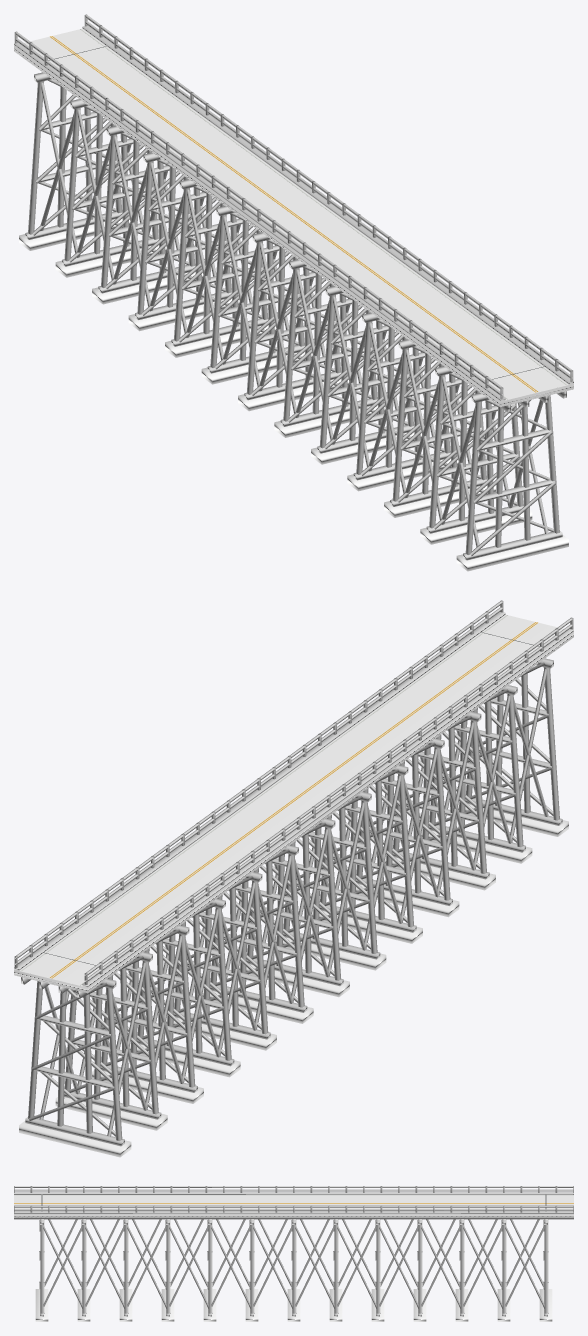
The model's file is bridge-lod1.fbx.
3 renders of one model, top to bottom at view 1: azimuth 30°, elevation 25°; view 2: azimuth 150°, elevation 25°; view 3: azimuth 270°, elevation 25°, orthographic. The views are drawn at different scales.
Parts seen in each view (by area): view 1: BridgeStructure_LOD1.001, BridgeDeck_LOD1.001, BridgeSupports_LOD1.001, BridgeParapets_LOD1.001, BridgeRoadPaint_LOD1.001; view 2: BridgeStructure_LOD1.001, BridgeDeck_LOD1.001, BridgeSupports_LOD1.001, BridgeParapets_LOD1.001, BridgeRoadPaint_LOD1.001; view 3: BridgeStructure_LOD1.001, BridgeDeck_LOD1.001, BridgeParapets_LOD1.001, BridgeSupports_LOD1.001, BridgeRoadPaint_LOD1.001.
Part boxes in pixels (bbox=[...]): BridgeStructure_LOD1.001: bbox=[14, 50, 573, 560]; BridgeDeck_LOD1.001: bbox=[14, 26, 573, 407]; BridgeSupports_LOD1.001: bbox=[19, 218, 568, 571]; BridgeParapets_LOD1.001: bbox=[14, 14, 573, 398]; BridgeRoadPaint_LOD1.001: bbox=[50, 29, 566, 399]; BridgeStructure_LOD1.001: bbox=[14, 636, 573, 1146]; BridgeDeck_LOD1.001: bbox=[14, 612, 573, 992]; BridgeSupports_LOD1.001: bbox=[19, 803, 568, 1157]; BridgeParapets_LOD1.001: bbox=[14, 600, 573, 984]; BridgeRoadPaint_LOD1.001: bbox=[21, 615, 537, 985]; BridgeStructure_LOD1.001: bbox=[14, 1216, 573, 1316]; BridgeDeck_LOD1.001: bbox=[14, 1192, 573, 1217]; BridgeParapets_LOD1.001: bbox=[14, 1186, 573, 1212]; BridgeSupports_LOD1.001: bbox=[35, 1289, 552, 1321]; BridgeRoadPaint_LOD1.001: bbox=[14, 1195, 573, 1203].
Size of the model in its own units: 9.6 by 17.58 by 80.
